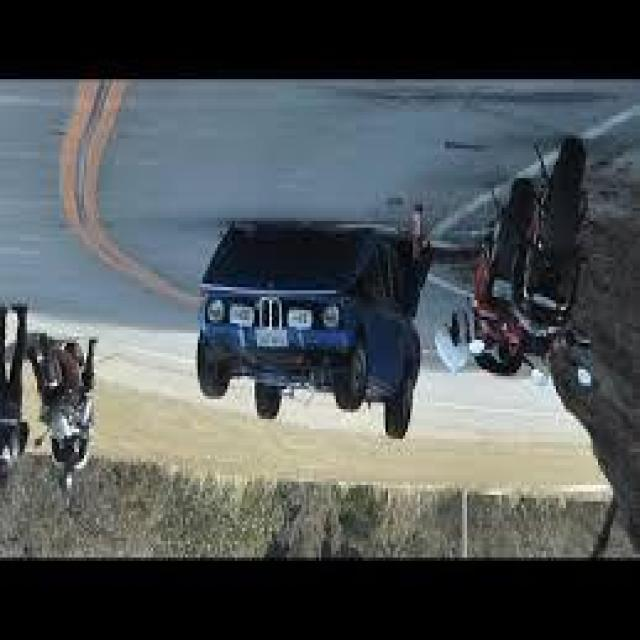severe: (190, 231, 430, 449)
